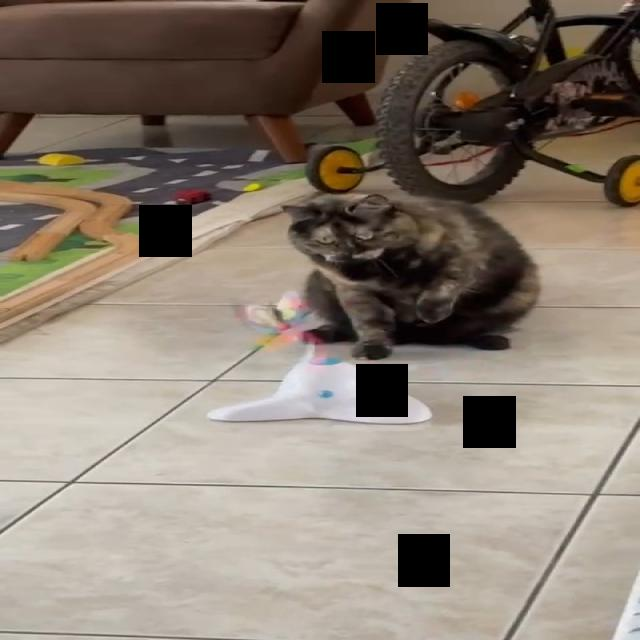authorized: (280, 191, 540, 360)
